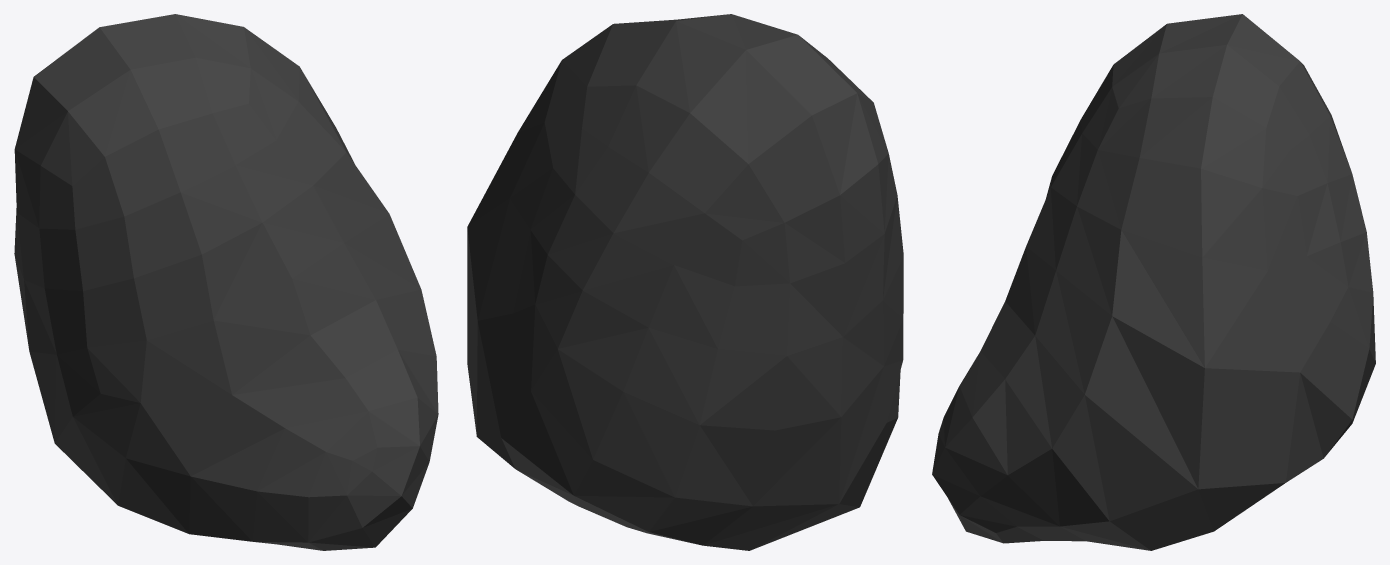
The model's file is LFL_scapula_3.glb.
The picture shows the model from 3 angles, left to right: view 1: azimuth 30°, elevation 25°; view 2: azimuth 150°, elevation 25°; view 3: azimuth 270°, elevation 25°; orthographic projection. The views are drawn at different scales.
Visible parts, largest first — view 1: LFL_scapula_3; view 2: LFL_scapula_3; view 3: LFL_scapula_3.
Boxes of the visible parts, <box> form: LFL_scapula_3: <box>14,14,438,550</box>; LFL_scapula_3: <box>467,14,903,550</box>; LFL_scapula_3: <box>932,14,1375,550</box>.
Size of the model in its own units: 3.79 by 4.78 by 4.16.
Materials: 1 (1 with a texture image).
